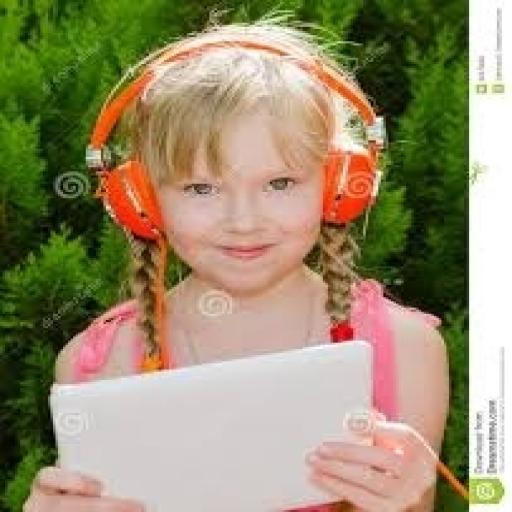listening_to_music: (15, 21, 452, 510)
